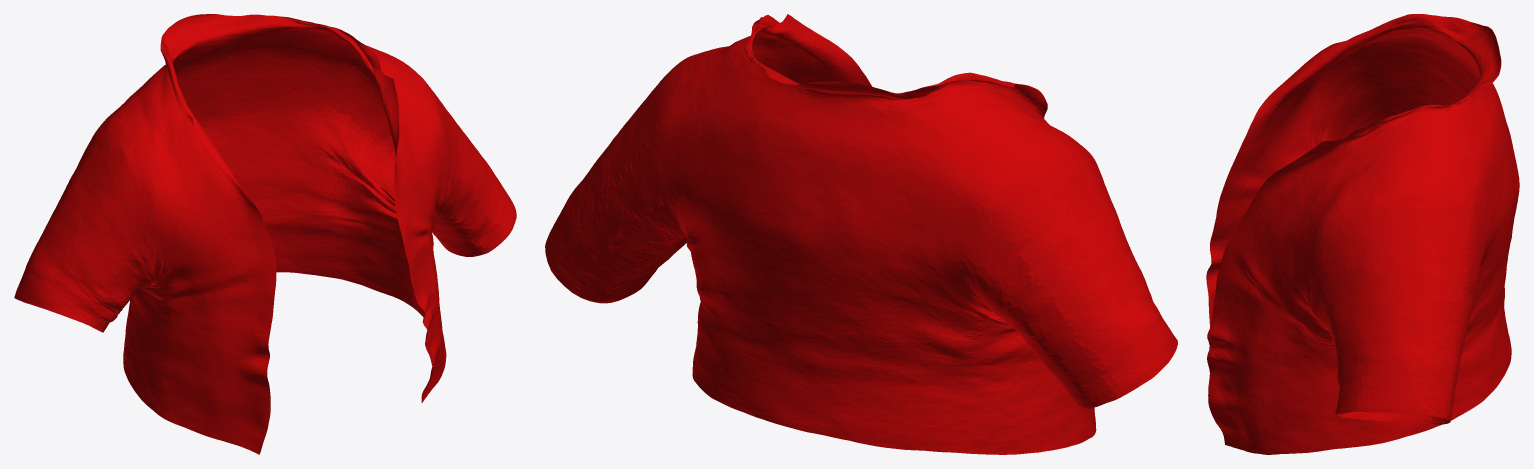
Rendered from aaron_022_2.obj.
3 views of the same model, side by side, from view 1: azimuth 30°, elevation 25°; view 2: azimuth 150°, elevation 25°; view 3: azimuth 270°, elevation 25° (orthographic). The views are drawn at different scales.
Parts seen in each view (by area): view 1: aaron_022_2; view 2: aaron_022_2; view 3: aaron_022_2.
Part boxes in pixels (<box>): aaron_022_2: <box>14,14,516,454</box>; aaron_022_2: <box>545,14,1177,454</box>; aaron_022_2: <box>1206,14,1519,454</box>.
Bounding box in the file's own units: 1.02 × 0.6648 × 0.5262.
